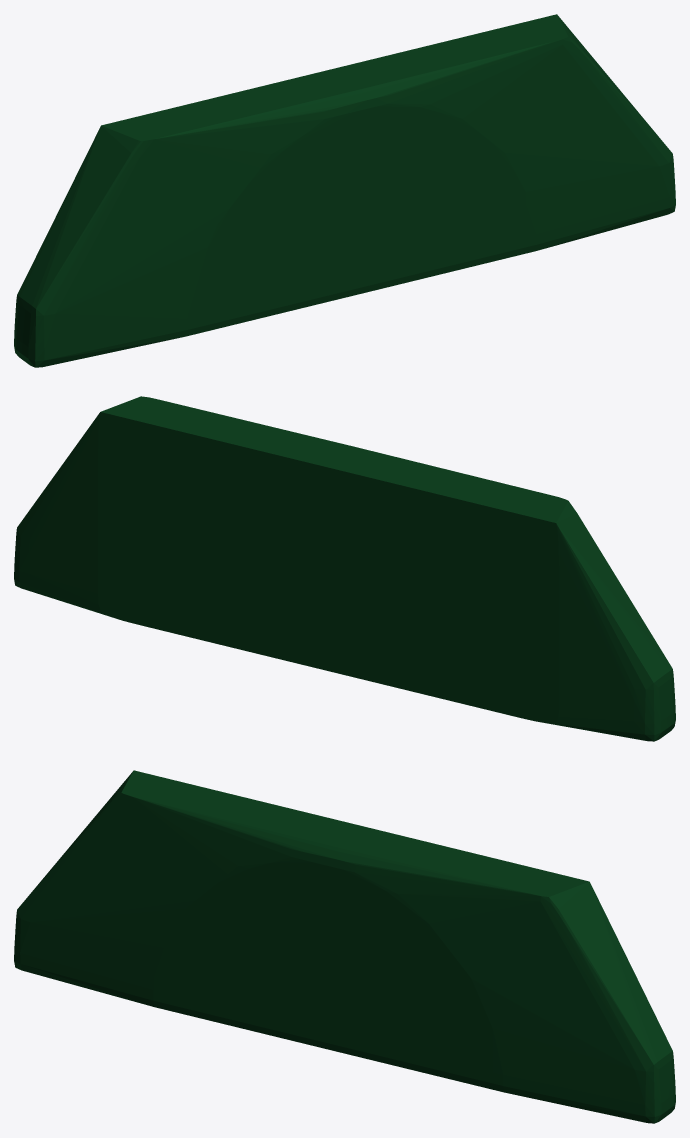
Rendered from pelvis_part_25.obj.
3 renders of one model, top to bottom at view 1: azimuth 30°, elevation 25°; view 2: azimuth 150°, elevation 25°; view 3: azimuth 330°, elevation 25°, orthographic.
Size of the model in its own units: 0.1239 by 0.0373 by 0.011.
